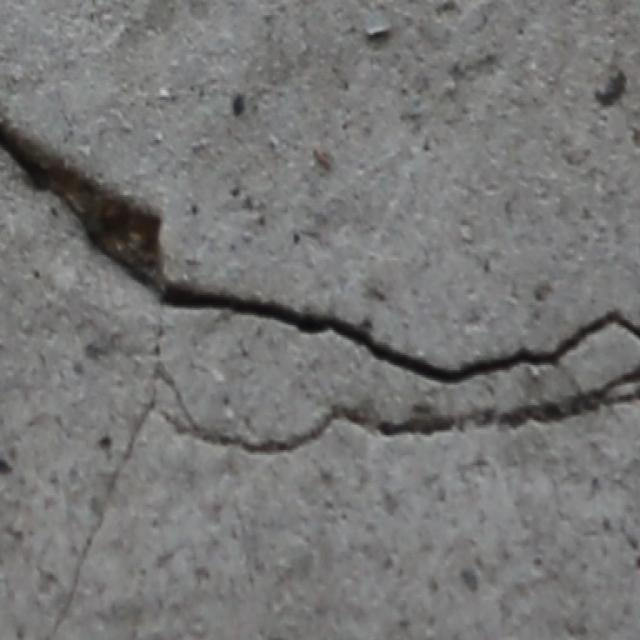crack: (1, 116, 639, 384), (47, 365, 638, 637)
